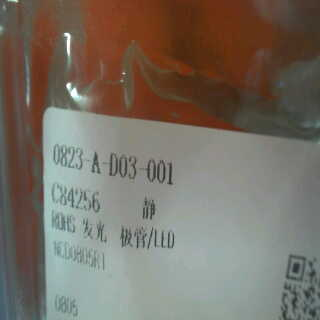LED: (78, 216, 182, 251)
